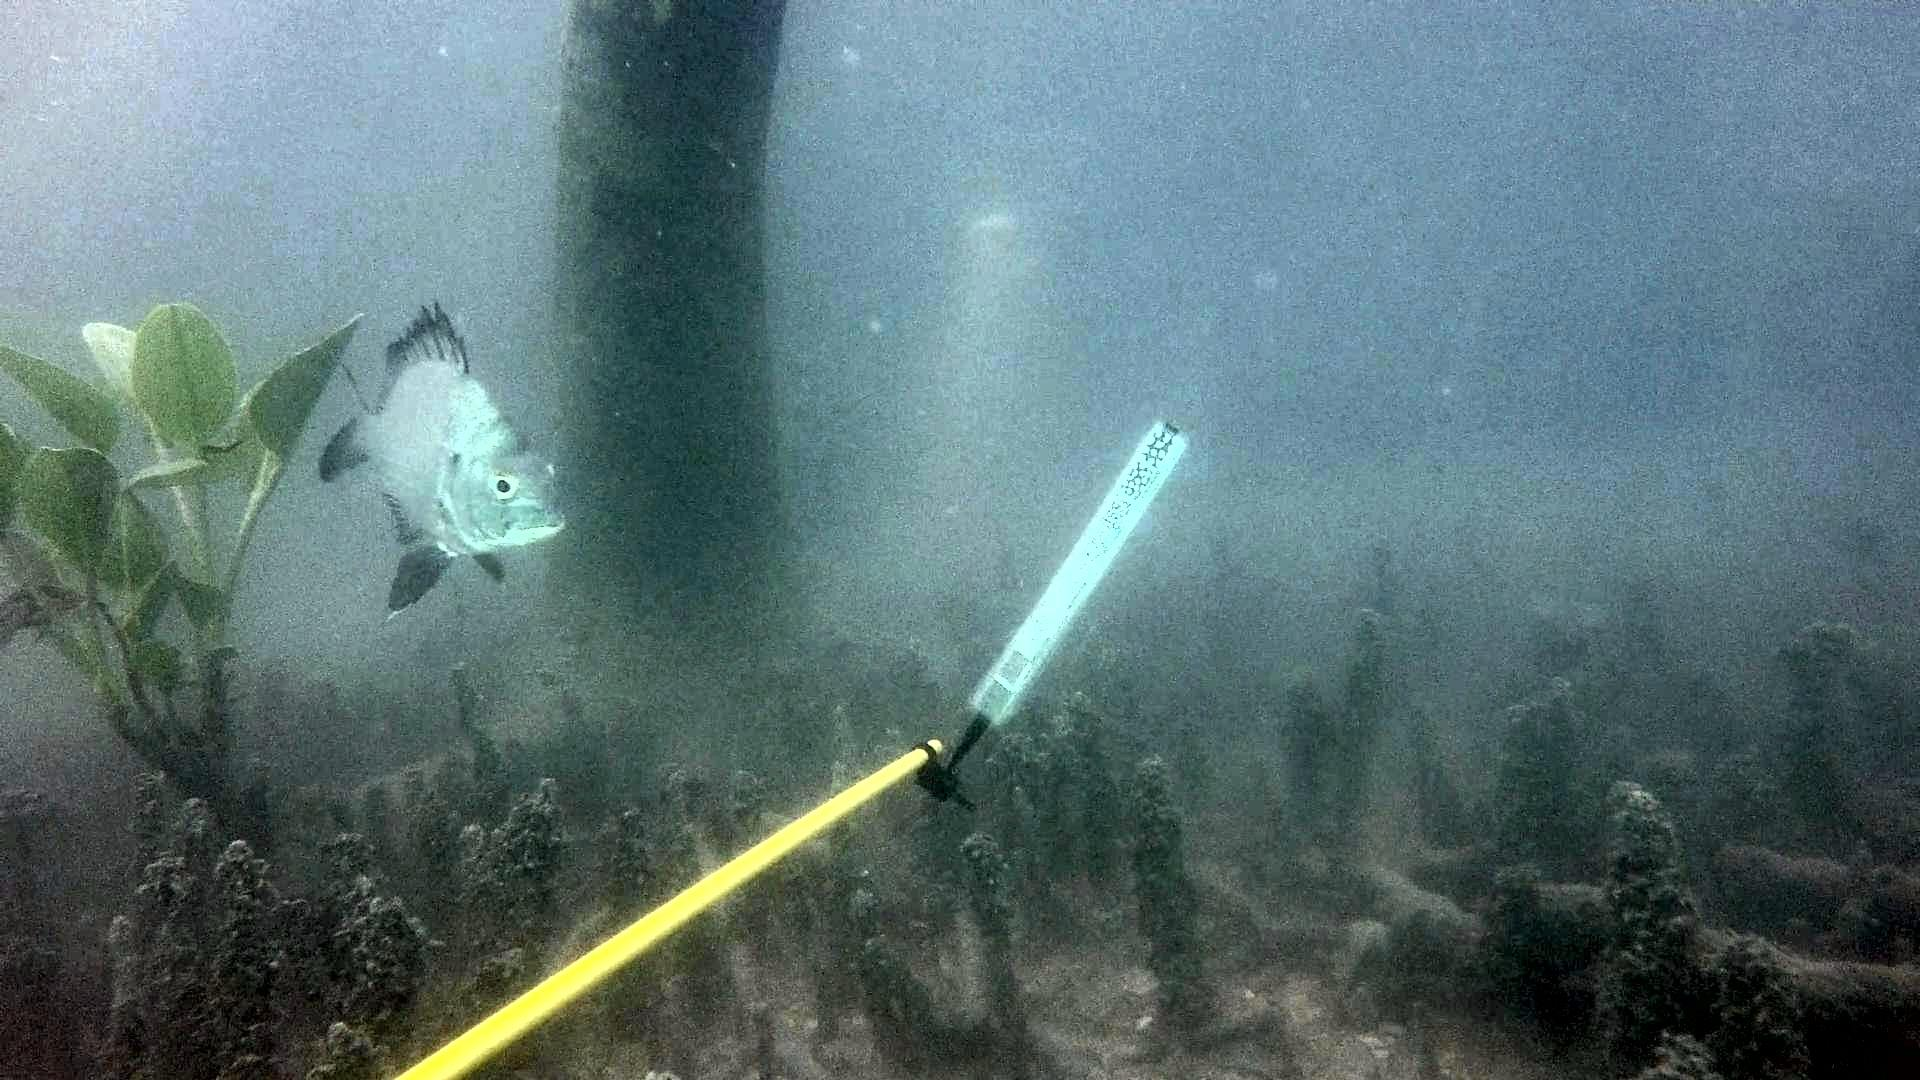acanthopagrus palmaris: (313, 289, 575, 629)
